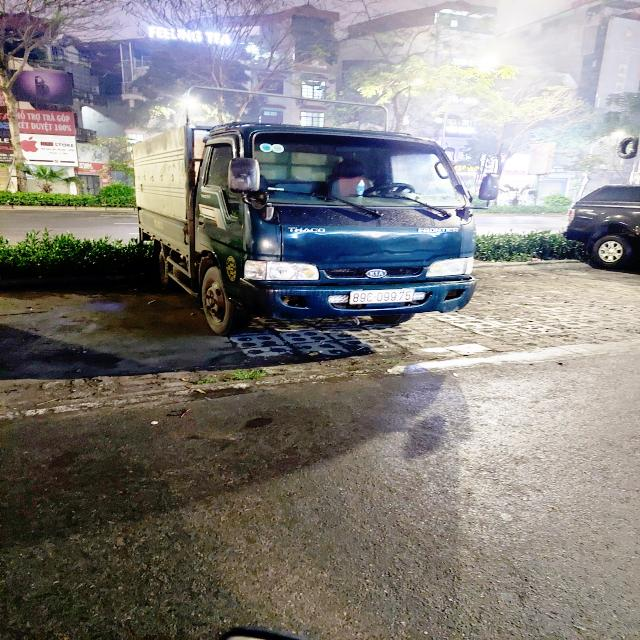license_plate: (348, 289, 418, 307)
